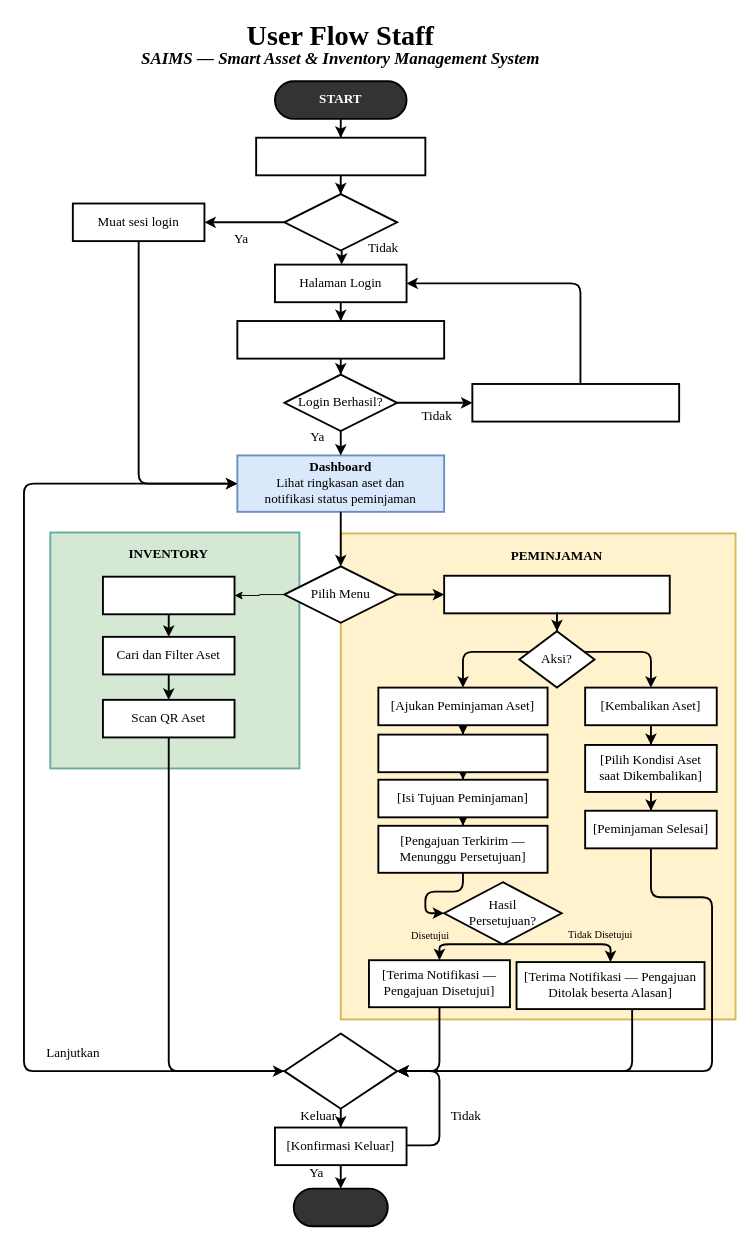
This 752x1243 diagram has some shape labels left out. Here are the shapes that lost their labels. From the top down, the centre of each, then its label:
At [340,156]: "Buka Aplikasi SAIMS".
At [340,222]: "Sudah Login?".
At [340,339]: "Masukkan Email dan Password".
At [575,402]: "[Tampilkan Pesan Kesalahan]".
At [168,595]: "Lihat Daftar Aset".
At [556,594]: "[Lihat Riwayat Peminjaman Saya]".
At [462,753]: "[Pilih Aset dan Tanggal]".
At [340,1070]: "Lanjutkan atau Keluar?".
At [340,1207]: "END".
